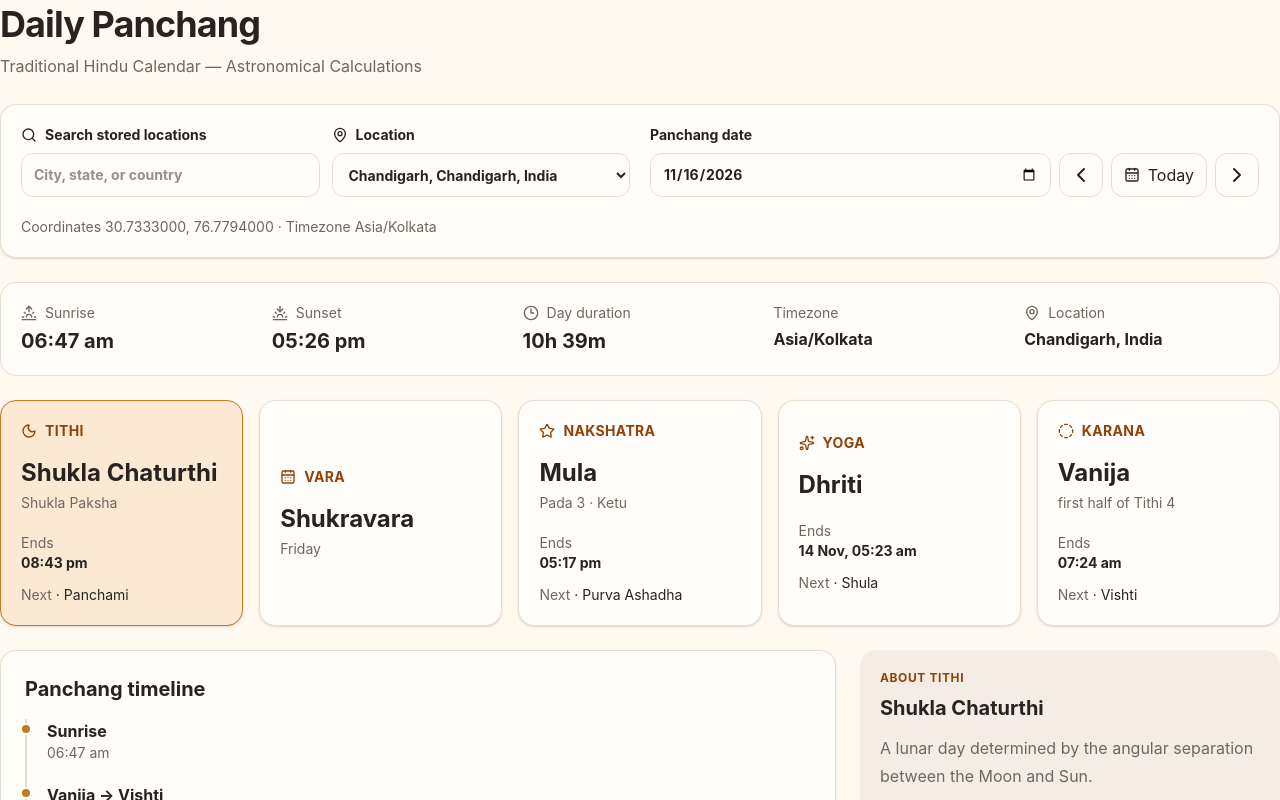
it: PanchangPage › renders five selectable Panchang cards, solar data, and multiple timeline events
Check: the text "Shukla Chaturthi" is shown, box x1=21 y1=457 x2=222 y2=489
Check: the text "06:47 am" in the row of "10h 39m" is shown, box x1=21 y1=329 x2=114 y2=353
Click the button with aria-label "Nakshatra:" at x=640, y=513, box x1=518 y1=400 x2=762 y2=626
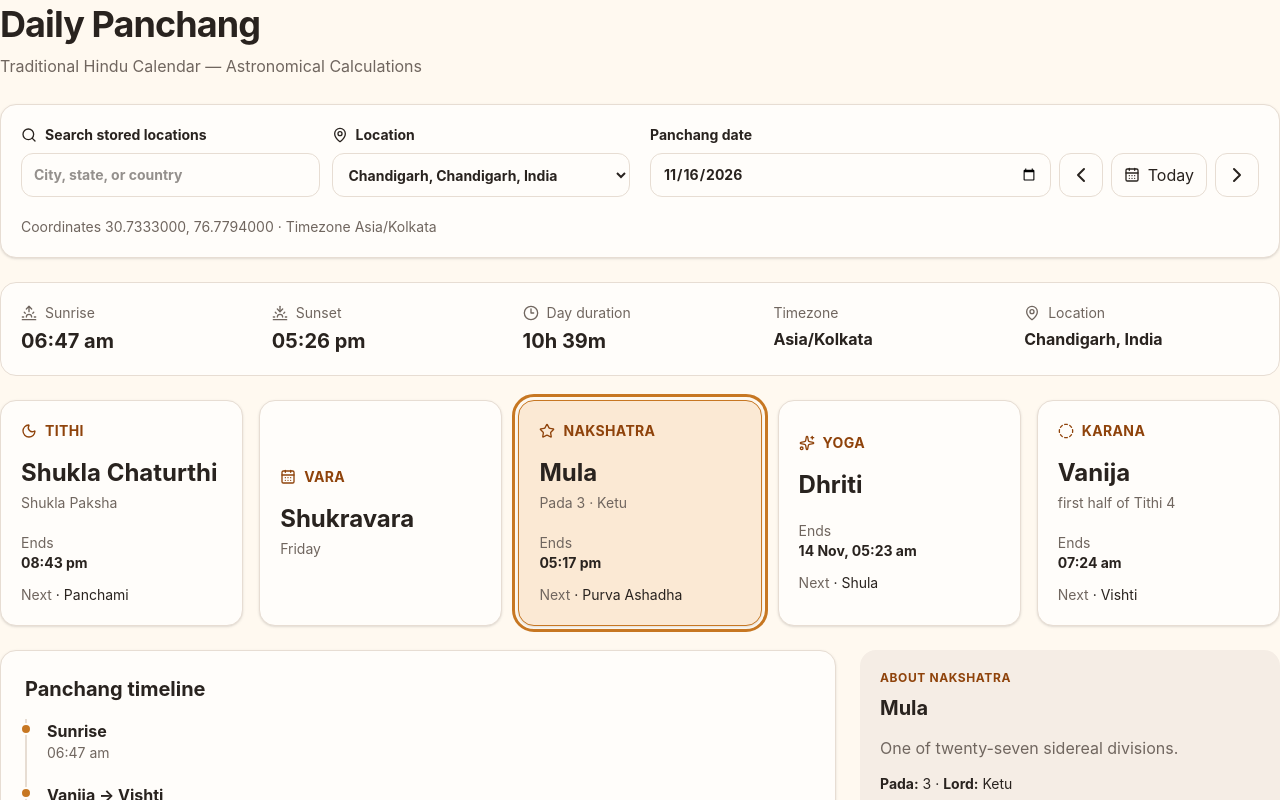
Check: the text "Pada:" is shown, box x1=880 y1=775 x2=919 y2=792
Check: the text "Lord:" is shown, box x1=943 y1=775 x2=979 y2=792
